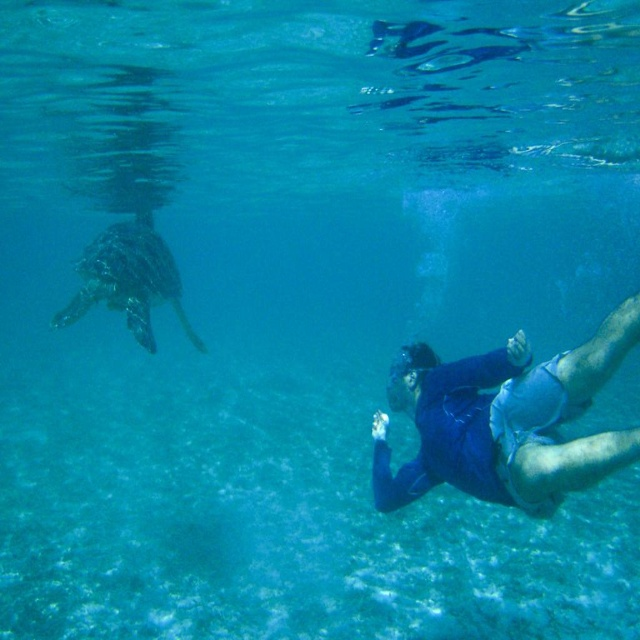Sea turtle: (44, 196, 214, 358)
